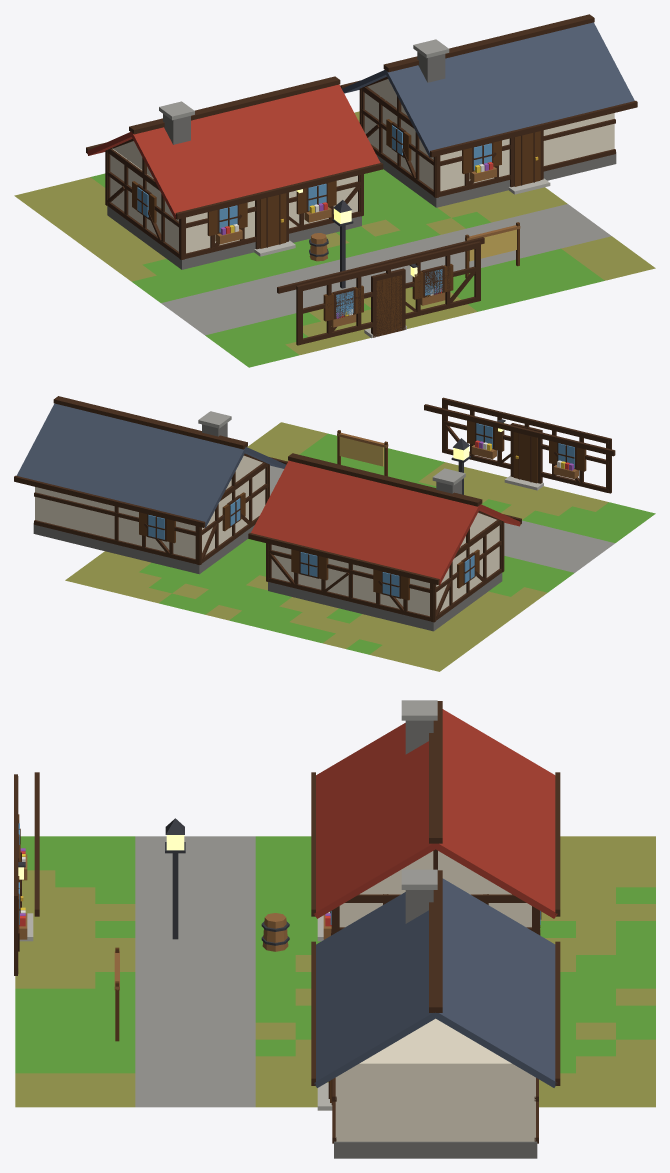
The model's file is chunk_9_5.glb.
The picture shows the model from 3 angles, top to bottom: view 1: azimuth 30°, elevation 25°; view 2: azimuth 150°, elevation 25°; view 3: azimuth 270°, elevation 25°; orthographic projection. The views are drawn at different scales.
Visible parts, largest first — view 1: chunk_9_5; view 2: chunk_9_5; view 3: chunk_9_5.
Part boxes in pixels (x1,y1,x2,y2): chunk_9_5: (14,14,655,367); chunk_9_5: (14,396,655,671); chunk_9_5: (14,700,655,1158).
Size of the model in its own units: 19.55 by 4.94 by 16.03.
